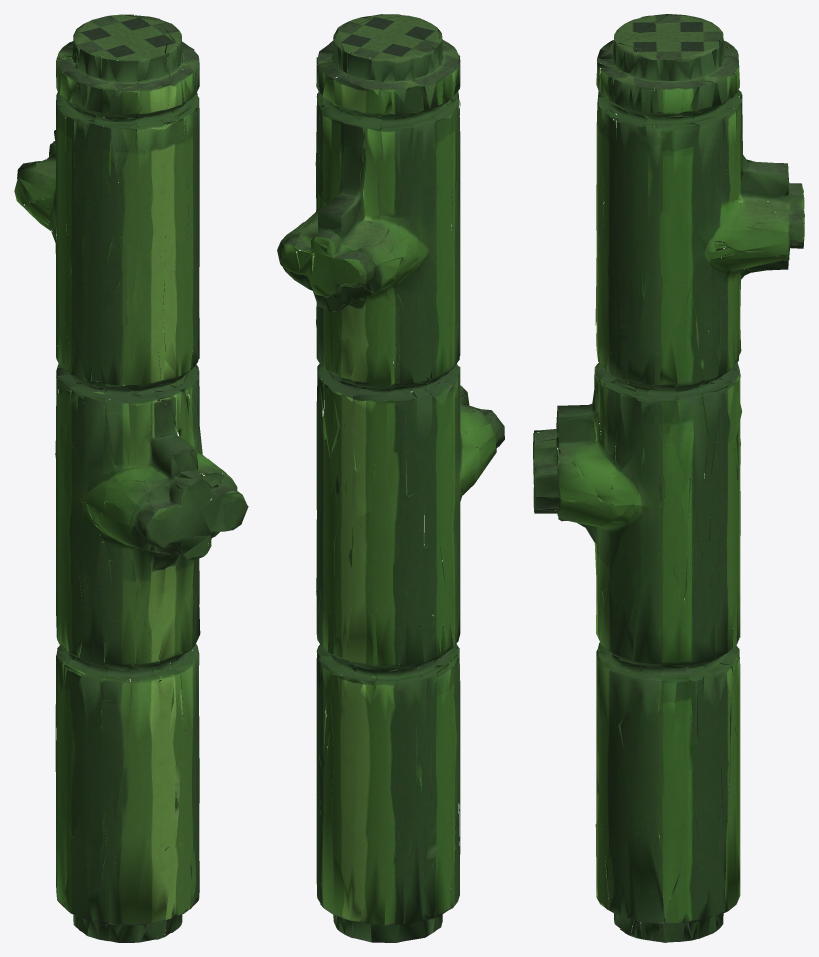
Rendered from reed_2.glb.
The picture shows the model from 3 angles, left to right: view 1: azimuth 30°, elevation 25°; view 2: azimuth 150°, elevation 25°; view 3: azimuth 270°, elevation 25°; orthographic projection.
Parts seen in each view (by area): view 1: Mesh_0; view 2: Mesh_0; view 3: Mesh_0.
Part boxes in pixels (x1,y1,x2,y2): Mesh_0: (14,14,248,942); Mesh_0: (277,14,504,942); Mesh_0: (533,14,804,942).
Bounding box in the file's own units: 0.285 × 1.9 × 0.5306.
Materials: 1 (1 with a texture image).
